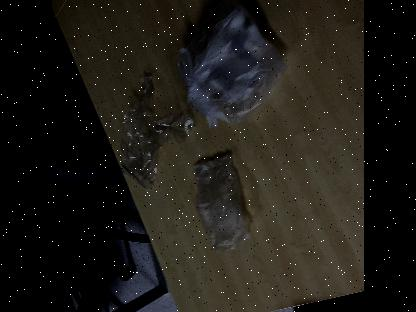Others: (178, 0, 288, 126), (110, 58, 194, 192), (189, 147, 257, 253)
